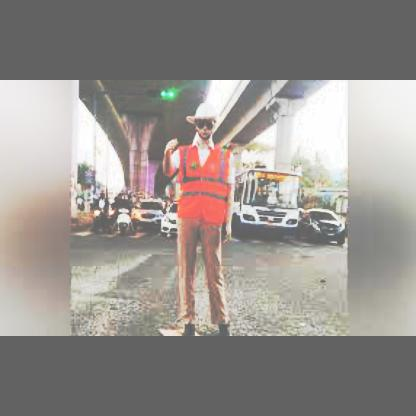Mannequin: (161, 102, 233, 334)
